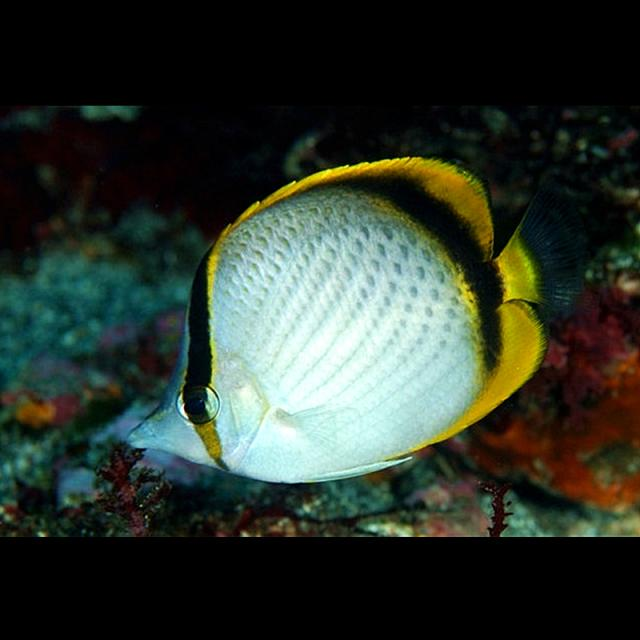ButterflyFish: (125, 159, 587, 484)
